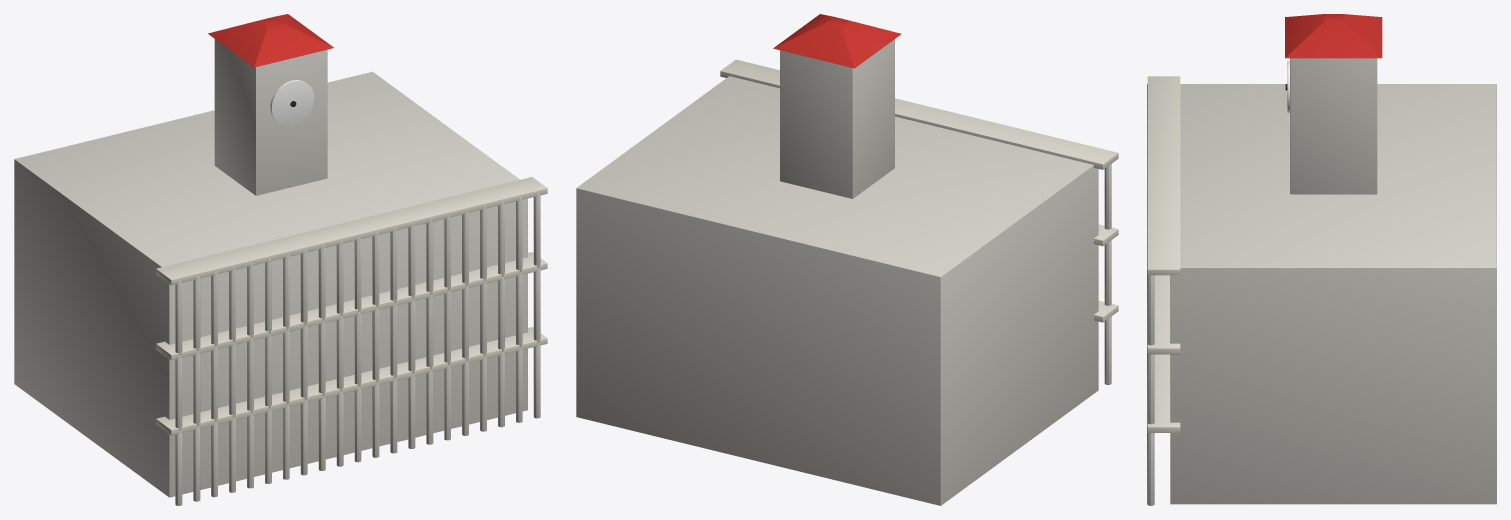
File: marco_zanzibar.glb
3 renders of one model, left to right at view 1: azimuth 30°, elevation 25°; view 2: azimuth 150°, elevation 25°; view 3: azimuth 270°, elevation 25°, orthographic. The views are drawn at different scales.
Visible parts, largest first — view 1: marco_zanzibar; view 2: marco_zanzibar; view 3: marco_zanzibar.
Part boxes in pixels (x1=…): marco_zanzibar: x1=14, y1=14, x2=547, y2=505; marco_zanzibar: x1=576, y1=14, x2=1118, y2=505; marco_zanzibar: x1=1147, y1=14, x2=1496, y2=505.
Bounding box in the file's own units: 42 × 40 × 32.14.
